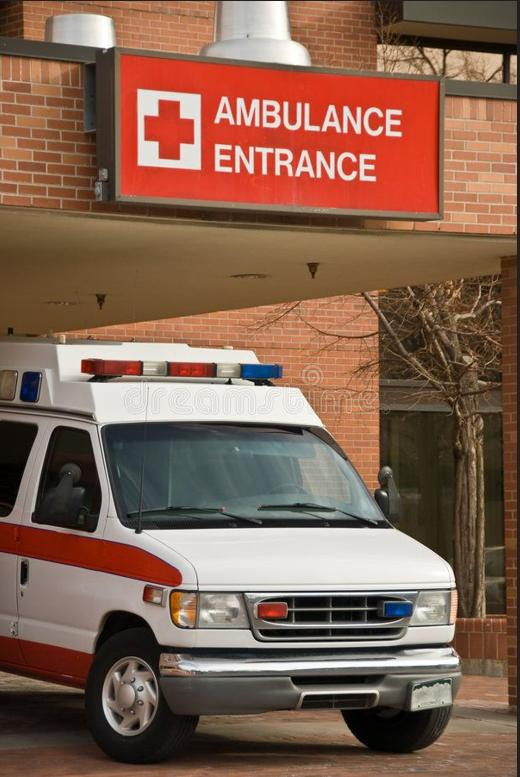ambulance_off: (0, 335, 455, 764)
